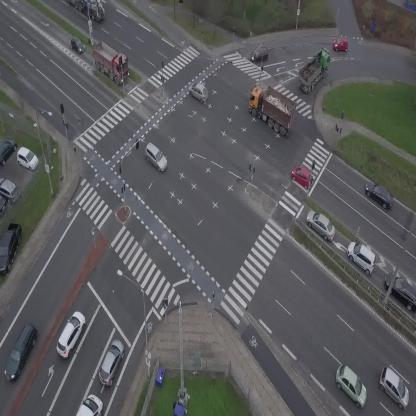car: (0, 322, 42, 383), (328, 362, 375, 410), (51, 308, 90, 359), (95, 337, 129, 388), (341, 237, 383, 277), (301, 205, 341, 244), (360, 179, 399, 211), (140, 142, 172, 173), (287, 163, 317, 191), (186, 79, 212, 104), (66, 34, 87, 57), (250, 46, 269, 61), (333, 38, 348, 51)
lorry: (240, 79, 304, 138), (83, 36, 138, 87), (291, 45, 339, 95), (67, 0, 105, 22), (76, 394, 103, 416)
